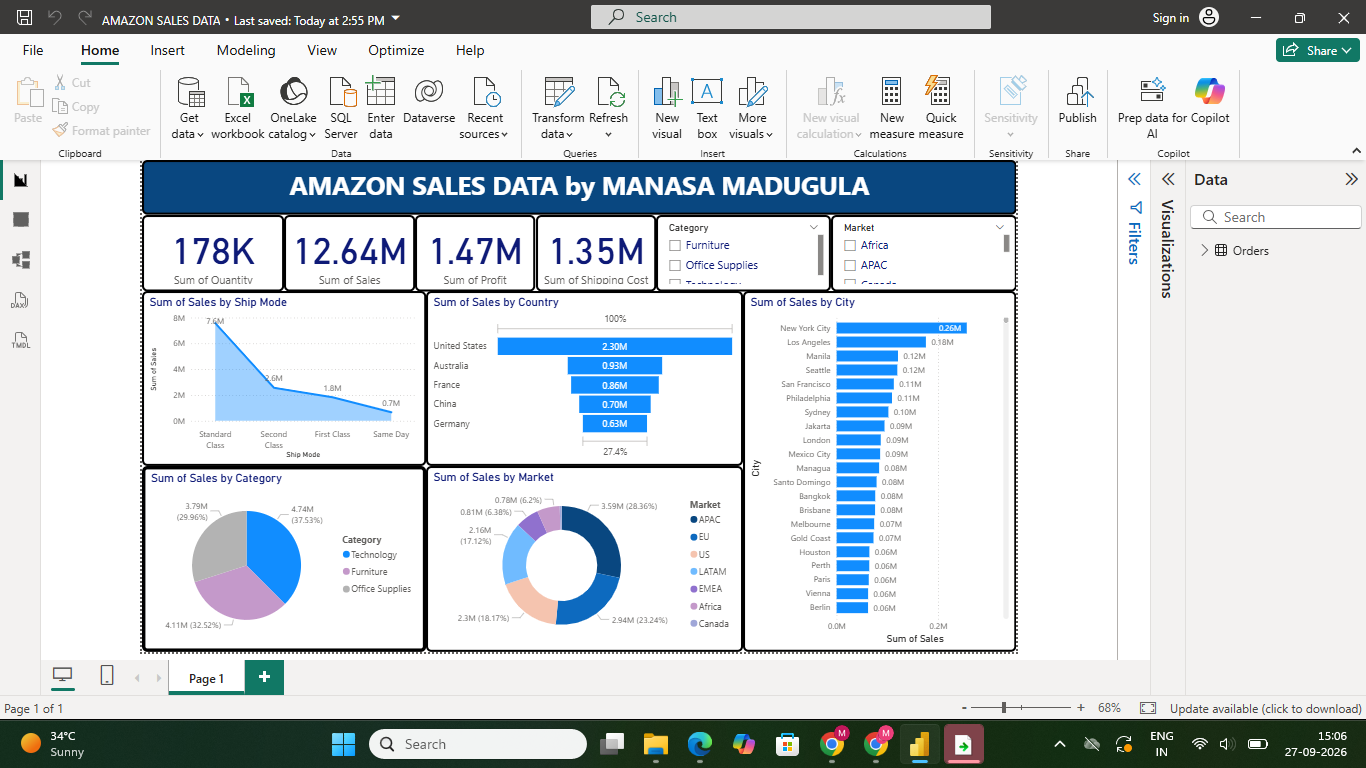

Layout of this report page (visuals, bound fields, positions):
{"tool":"powerbi","page":{"name":"Page 1","canvas":[1280,720],"ordinal":0},"visuals":[{"type":"pieChart","fields":{"Category":["Orders.Category"],"Y":["Sum(Orders.Sales)"]},"box":[0,448,416,272],"z":0},{"type":"donutChart","fields":{"Category":["Orders.Market"],"Y":["Sum(Orders.Sales)"]},"box":[416,448,464,272],"z":1000},{"type":"areaChart","fields":{"Category":["Orders.Ship Mode"],"Y":["Sum(Orders.Sales)"]},"box":[0,192,416,256],"z":2000},{"type":"clusteredBarChart","fields":{"Category":["Orders.City"],"Y":["Sum(Orders.Sales)","select"]},"box":[880,192,400,528],"z":3000},{"type":"funnel","fields":{"Category":["Orders.Country"],"Y":["Sum(Orders.Sales)"]},"box":[416,192,464,256],"z":4000},{"type":"textbox","box":[0,0,1280,80],"z":5000},{"type":"card","fields":{"Values":["Sum(Orders.Quantity)"]},"box":[0,80,208,112],"z":6000},{"type":"card","fields":{"Values":["Sum(Orders.Sales)"]},"box":[208,80,192,112],"z":7000},{"type":"card","fields":{"Values":["Sum(Orders.Profit)"]},"box":[400,80,176,112],"z":8000},{"type":"card","fields":{"Values":["Sum(Orders.Shipping Cost)"]},"box":[576,80,176,112],"z":9000},{"type":"slicer","fields":{"Values":["Orders.Category"]},"box":[752,80,256,112],"z":10000},{"type":"slicer","fields":{"Values":["Orders.Market"]},"box":[1008,80,272,112],"z":11000}]}

Visuals, with their boxes on the page's 1280x720 design canvas (x1, y1, x2, y2). These are canvas units, not pixel positions in the 1366x768 screenshot, which may show the page scaled, cropped or inside an application window:
pieChart - Orders.Category x Sum(Orders.Sales): <box>0,448,416,720</box>
donutChart - Orders.Market x Sum(Orders.Sales): <box>416,448,880,720</box>
areaChart - Orders.Ship Mode x Sum(Orders.Sales): <box>0,192,416,448</box>
clusteredBarChart - Orders.City x Sum(Orders.Sales): <box>880,192,1280,720</box>
funnel - Orders.Country x Sum(Orders.Sales): <box>416,192,880,448</box>
textbox: <box>0,0,1280,80</box>
card - Sum(Orders.Quantity): <box>0,80,208,192</box>
card - Sum(Orders.Sales): <box>208,80,400,192</box>
card - Sum(Orders.Profit): <box>400,80,576,192</box>
card - Sum(Orders.Shipping Cost): <box>576,80,752,192</box>
slicer - Orders.Category: <box>752,80,1008,192</box>
slicer - Orders.Market: <box>1008,80,1280,192</box>
